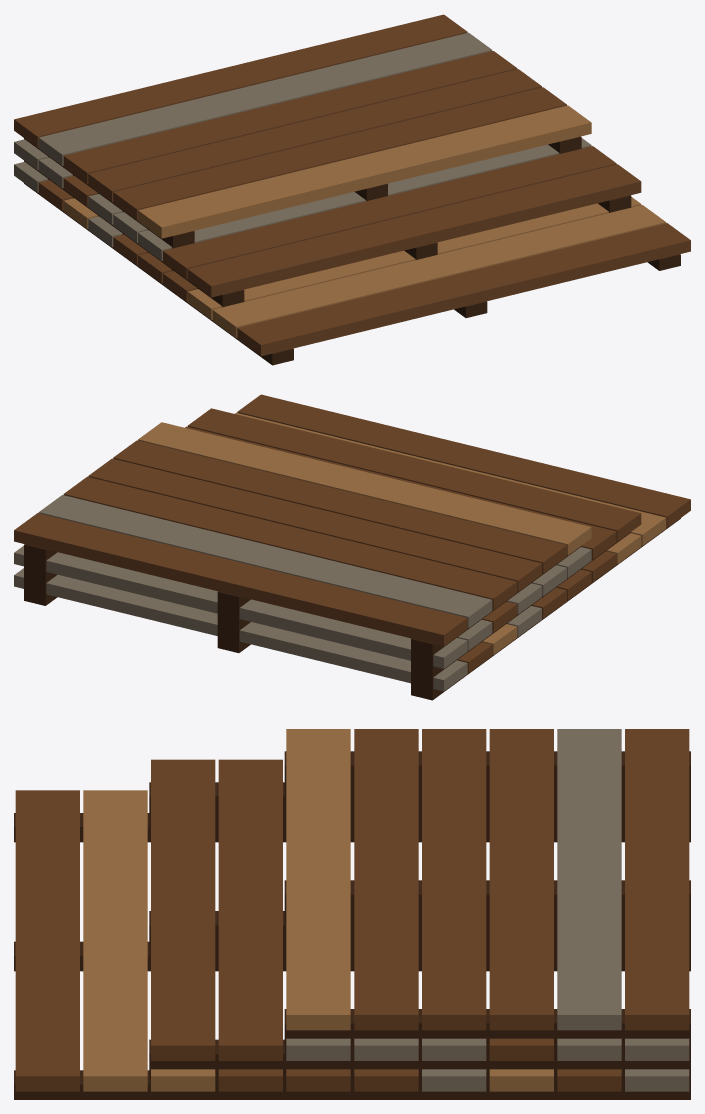
The model's file is SM_Boardwalk_Steps.obj.
3 renders of one model, top to bottom at view 1: azimuth 30°, elevation 25°; view 2: azimuth 150°, elevation 25°; view 3: azimuth 270°, elevation 25°, orthographic. The views are drawn at different scales.
Visible parts, largest first — view 1: SM_Boardwalk_Steps; view 2: SM_Boardwalk_Steps; view 3: SM_Boardwalk_Steps.
Boxes of the visible parts, x1,y1,x2,y2 form: SM_Boardwalk_Steps: (14,14,690,365); SM_Boardwalk_Steps: (14,394,690,700); SM_Boardwalk_Steps: (14,729,690,1099).
Bounding box in the file's own units: 2 × 0.3 × 2.
